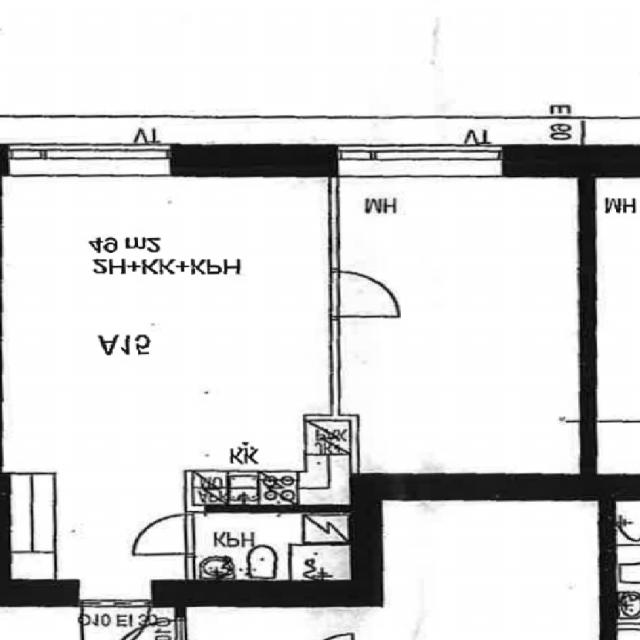door: (331, 272, 402, 316), (83, 600, 150, 640), (129, 514, 194, 554)
